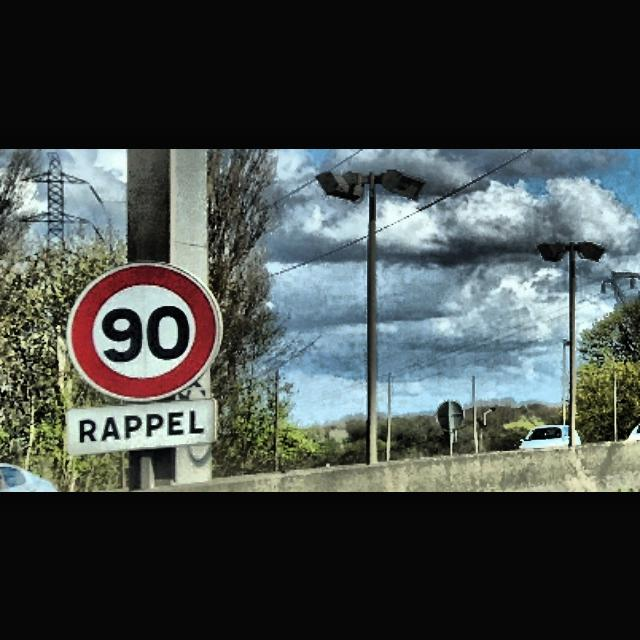speed_90: (66, 262, 226, 402)
